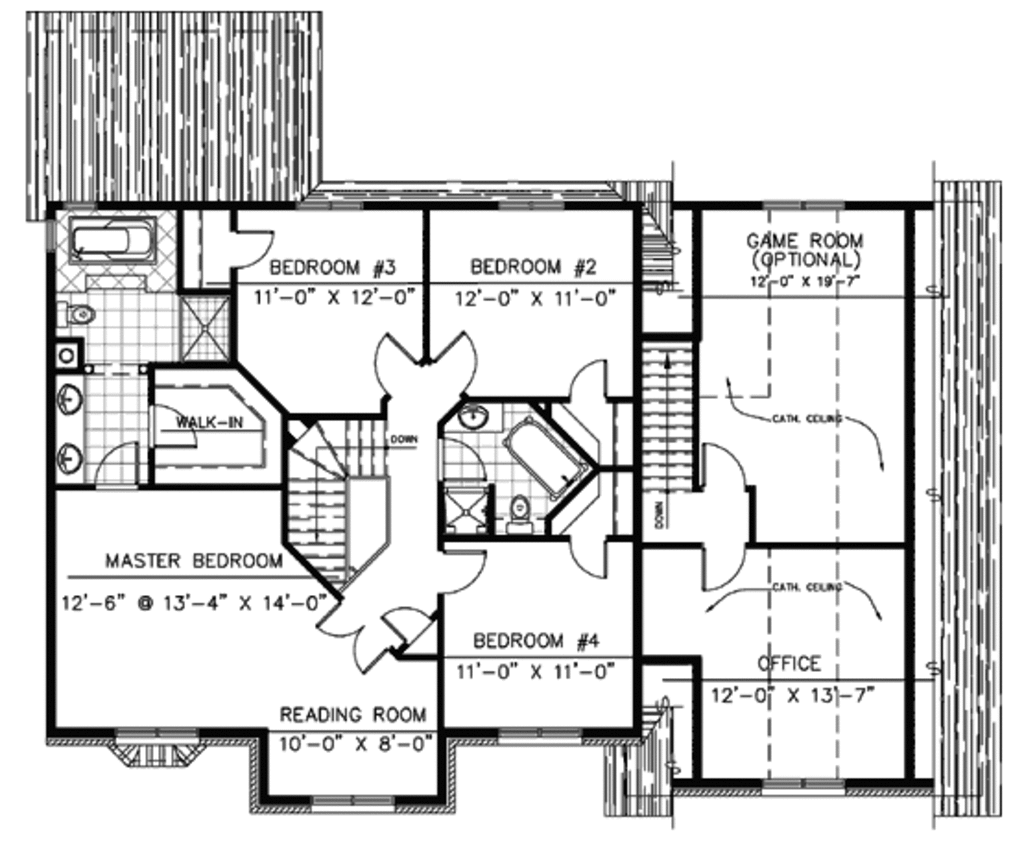door: (316, 600, 385, 675), (367, 332, 416, 398), (435, 327, 482, 395), (699, 440, 752, 493), (92, 438, 144, 490), (699, 541, 751, 592), (442, 544, 490, 598), (377, 604, 434, 647), (149, 402, 199, 450), (228, 226, 279, 273), (568, 532, 611, 586), (566, 355, 612, 399)
large_sink: (499, 493, 550, 538), (57, 295, 99, 338)
small_sink: (54, 372, 89, 487), (440, 398, 503, 438)
stairs: (282, 412, 395, 591), (637, 331, 703, 523)
tub: (504, 417, 583, 502), (67, 212, 161, 273)
window: (493, 722, 588, 749), (305, 792, 401, 818), (758, 775, 855, 800), (108, 724, 202, 748), (755, 199, 858, 216)
